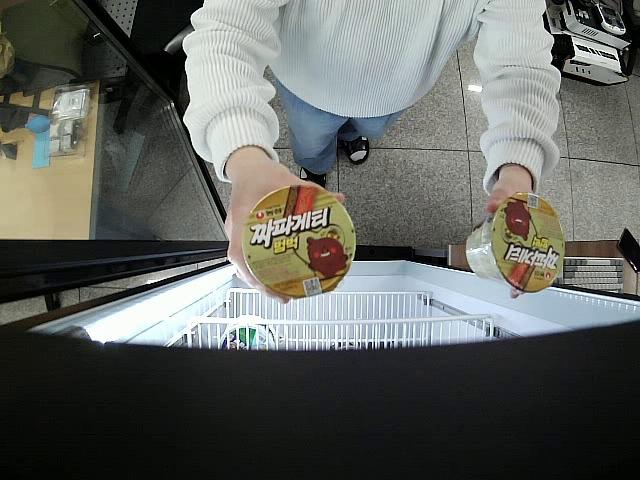00_hand: (224, 163, 346, 305)
04_chapagetti_S: (241, 183, 354, 297), (466, 196, 565, 292)
